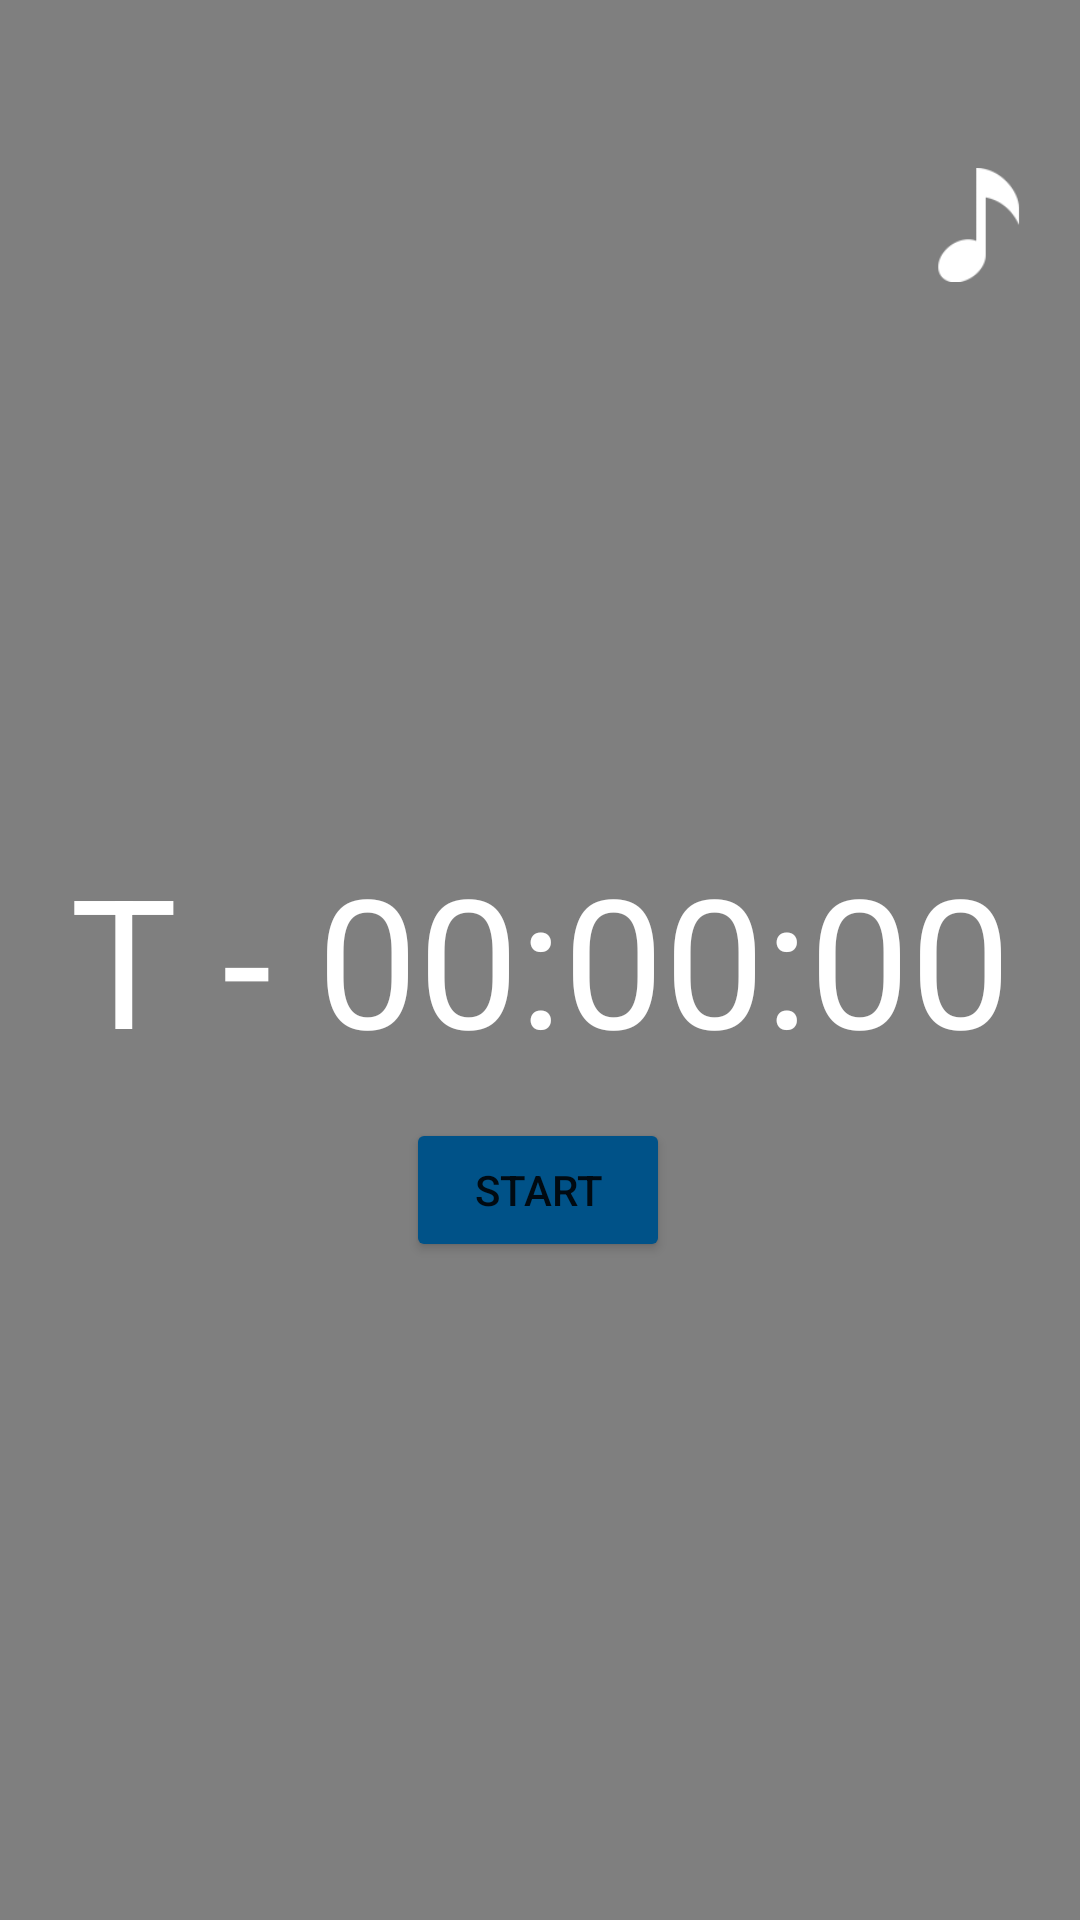

Locate icon controls on the screen. Image size 1080px x 1920px, boxes as (x1, y1, x2, y2).
note: (938, 168, 1019, 282)
